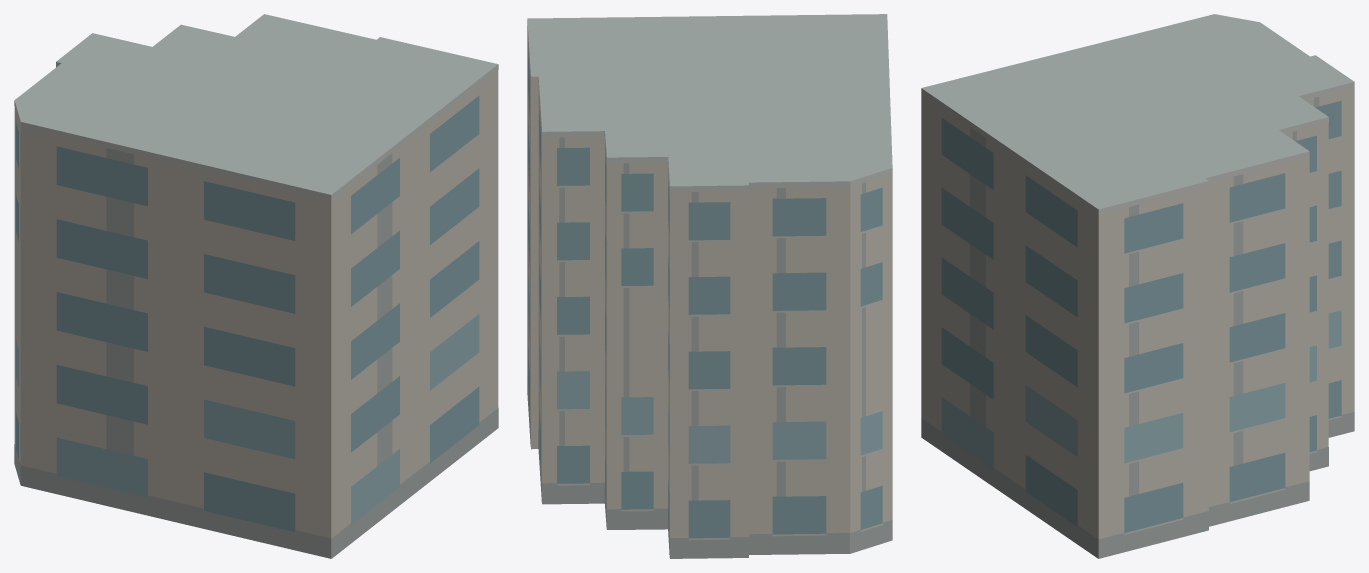
The model's file is residential-125fde1c-bf0f-4fce-a328-e26123184c41.glb.
3 renders of one model, left to right at view 1: azimuth 30°, elevation 25°; view 2: azimuth 150°, elevation 25°; view 3: azimuth 270°, elevation 25°, orthographic. The views are drawn at different scales.
Visible parts, largest first — view 1: residential-125fde1c-bf0f-4fce-a328-e26123184c41.tmp; view 2: residential-125fde1c-bf0f-4fce-a328-e26123184c41.tmp; view 3: residential-125fde1c-bf0f-4fce-a328-e26123184c41.tmp.
Part boxes in pixels (x1,y1,x2,y2): residential-125fde1c-bf0f-4fce-a328-e26123184c41.tmp: (14, 14, 498, 558); residential-125fde1c-bf0f-4fce-a328-e26123184c41.tmp: (527, 14, 892, 558); residential-125fde1c-bf0f-4fce-a328-e26123184c41.tmp: (921, 14, 1354, 558).
Size of the model in its own units: 18.31 by 15.25 by 17.15.
